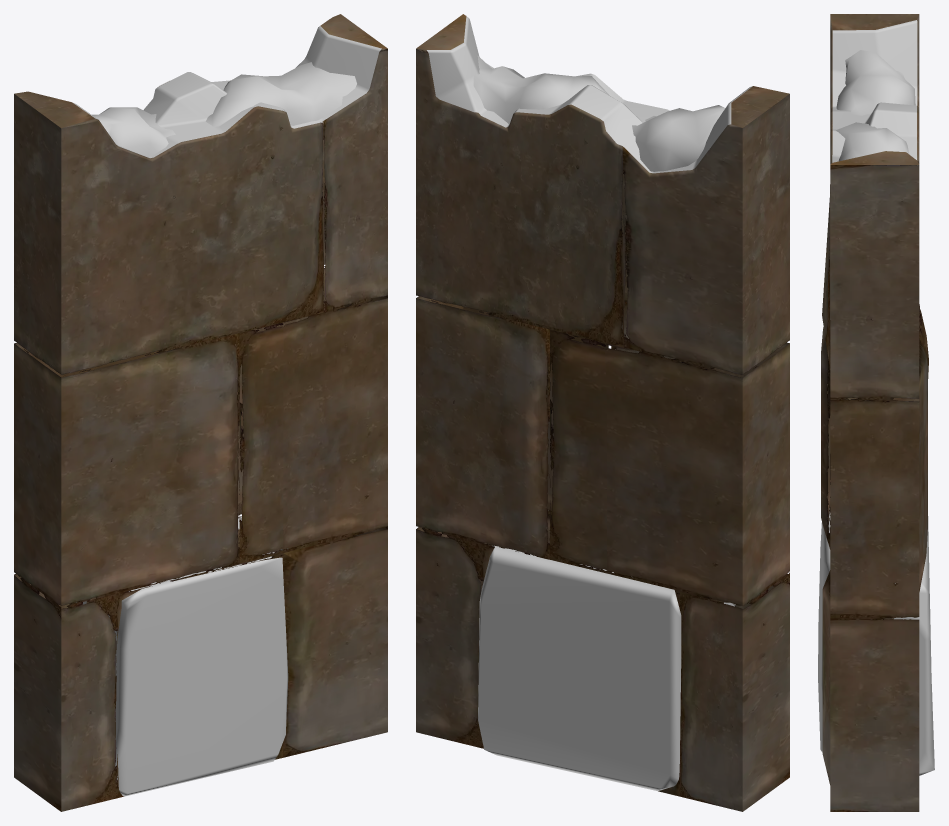
3 renders of one model, left to right at view 1: azimuth 30°, elevation 25°; view 2: azimuth 150°, elevation 25°; view 3: azimuth 270°, elevation 25°, orthographic. The views are drawn at different scales.
Visible parts, largest first — view 1: SM_Vault_4m_Wall_Dmg_01_LOD0; view 2: SM_Vault_4m_Wall_Dmg_01_LOD0; view 3: SM_Vault_4m_Wall_Dmg_01_LOD0.
Part boxes in pixels (x1,y1,x2,y2): SM_Vault_4m_Wall_Dmg_01_LOD0: (14, 14, 387, 811); SM_Vault_4m_Wall_Dmg_01_LOD0: (416, 14, 789, 811); SM_Vault_4m_Wall_Dmg_01_LOD0: (818, 14, 934, 811).
Bounding box in the file's own units: 2 × 4 × 0.6543.
